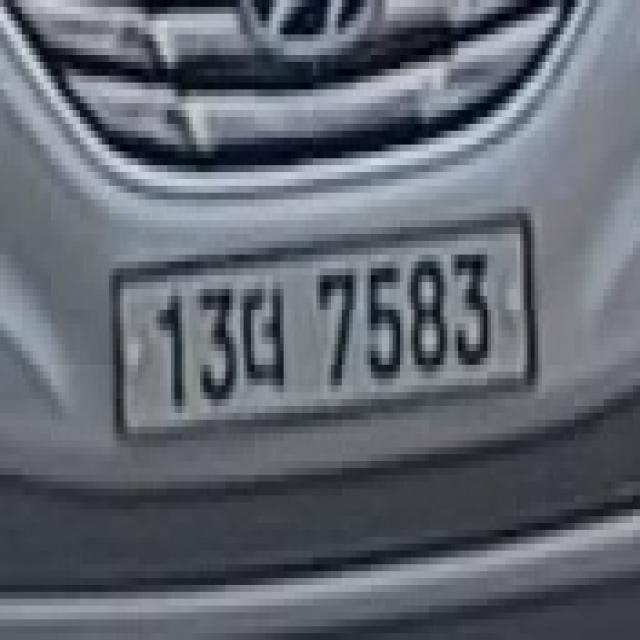1: (156, 287, 184, 411)
3: (200, 282, 240, 408), (453, 247, 491, 374)
5: (366, 255, 404, 382)
7: (317, 266, 358, 393)
8: (407, 254, 448, 382)
deo: (242, 266, 290, 398)
license_plate: (112, 196, 534, 442)
